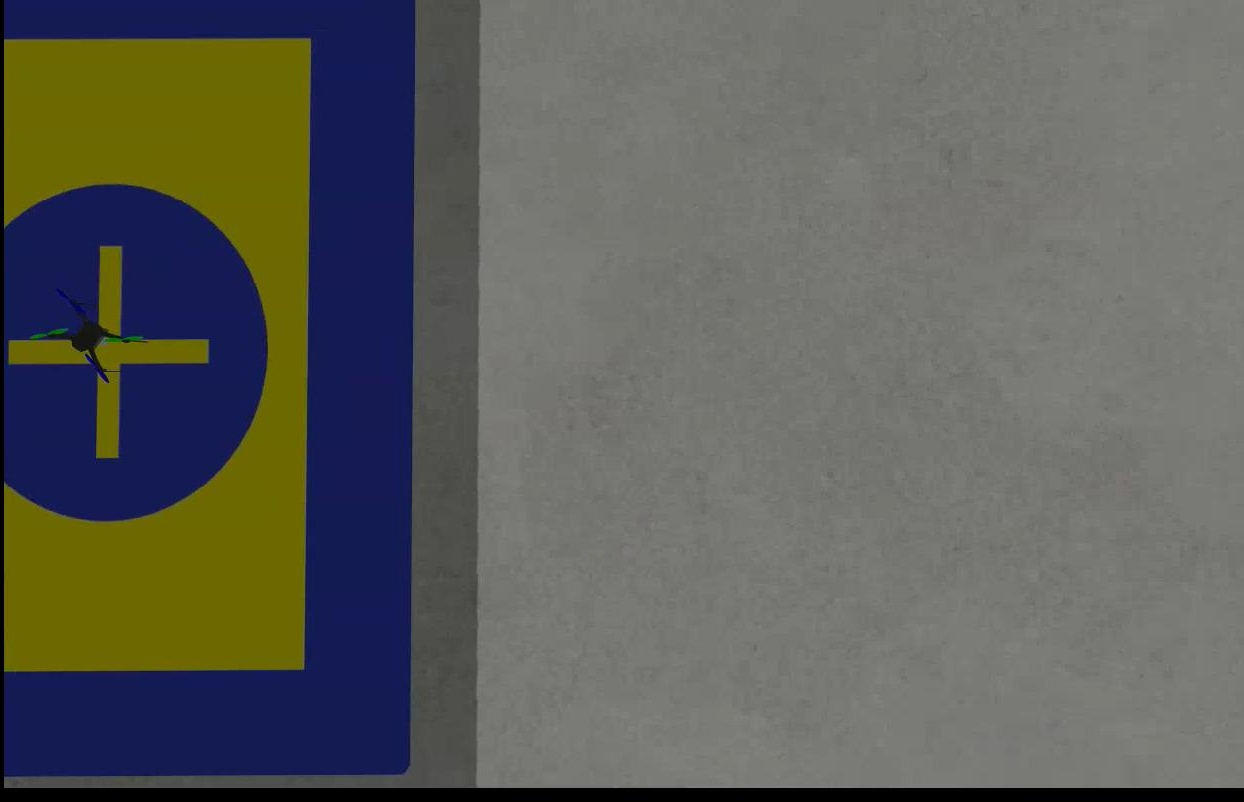large_base: (0, 1, 419, 773)
